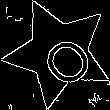O_NW: (25, 19, 92, 86)
